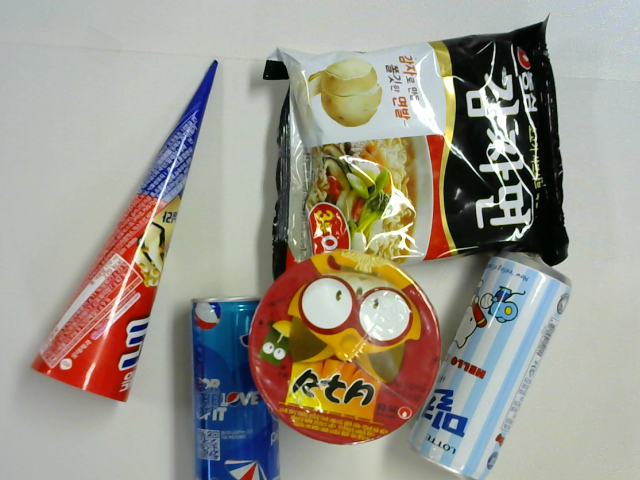Milkies_250ml: (409, 248, 573, 480)
Pepsi_Cola_Can_250ml: (190, 292, 283, 480)
Potato: (267, 24, 567, 273)
Raccoon: (252, 251, 436, 446)
World_Cone_Banila: (33, 59, 218, 403)
